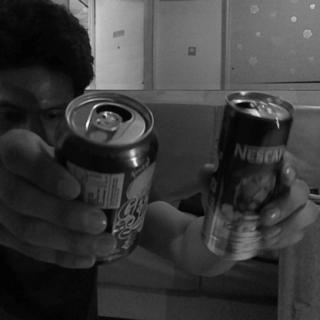alumunium_can: (53, 93, 157, 264), (202, 92, 296, 258)
